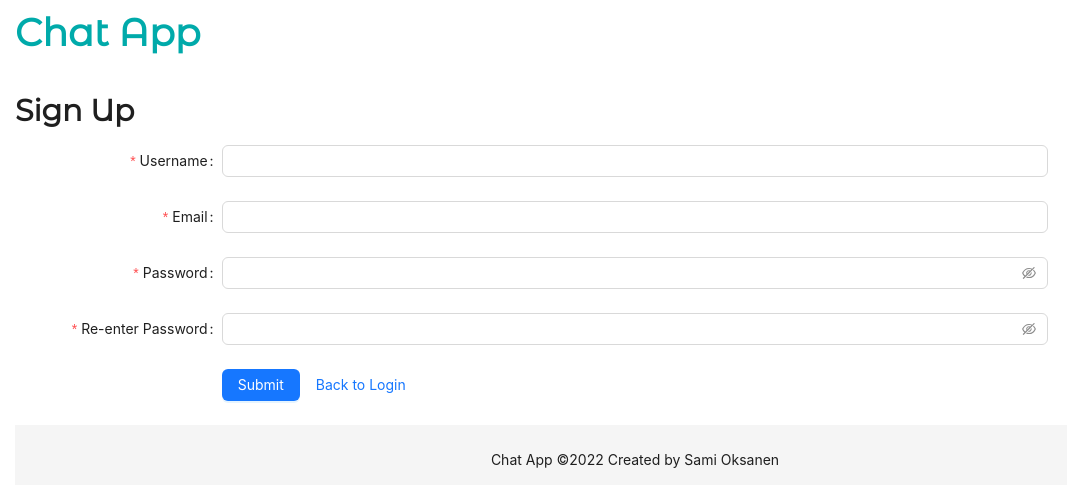
Test: SignUpForm › shows validation error for invalid email format
Type "invalid-email" into the field labelled "Email" at (635, 217), box [222,201,1048,233]
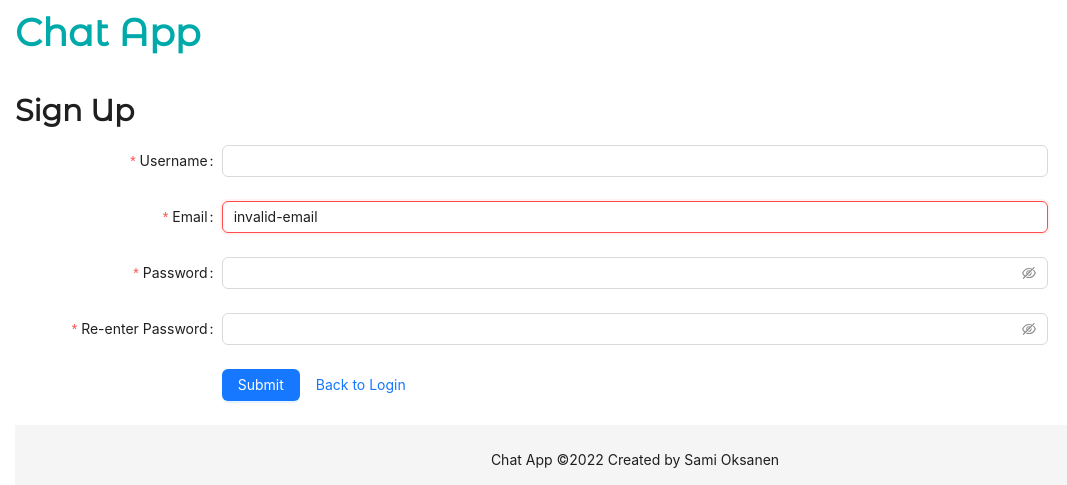
Click the button "Submit" at (261, 385), box [222,369,300,401]
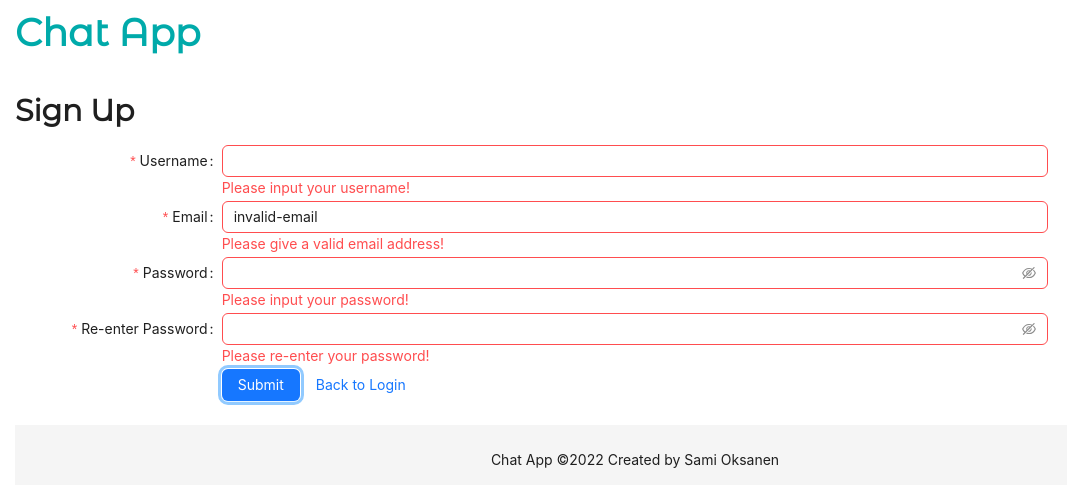
expect the text "Please give a valid email address!" is shown: met, box [222,235,444,252]
